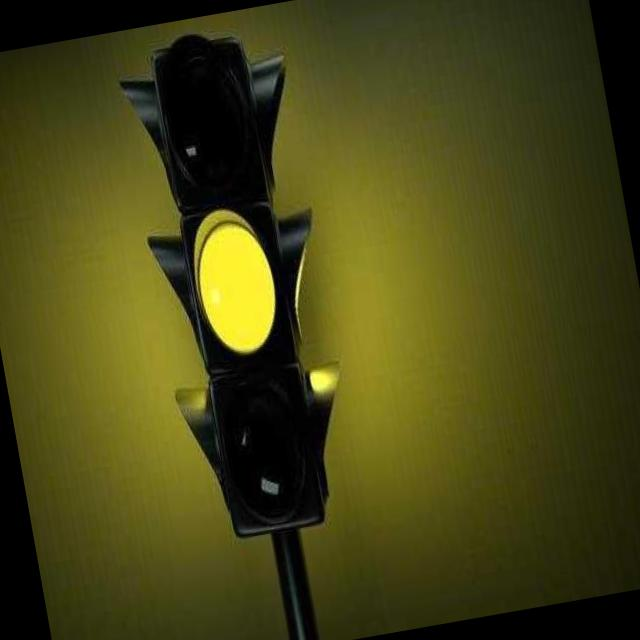yellow-lights: (178, 204, 292, 366)
